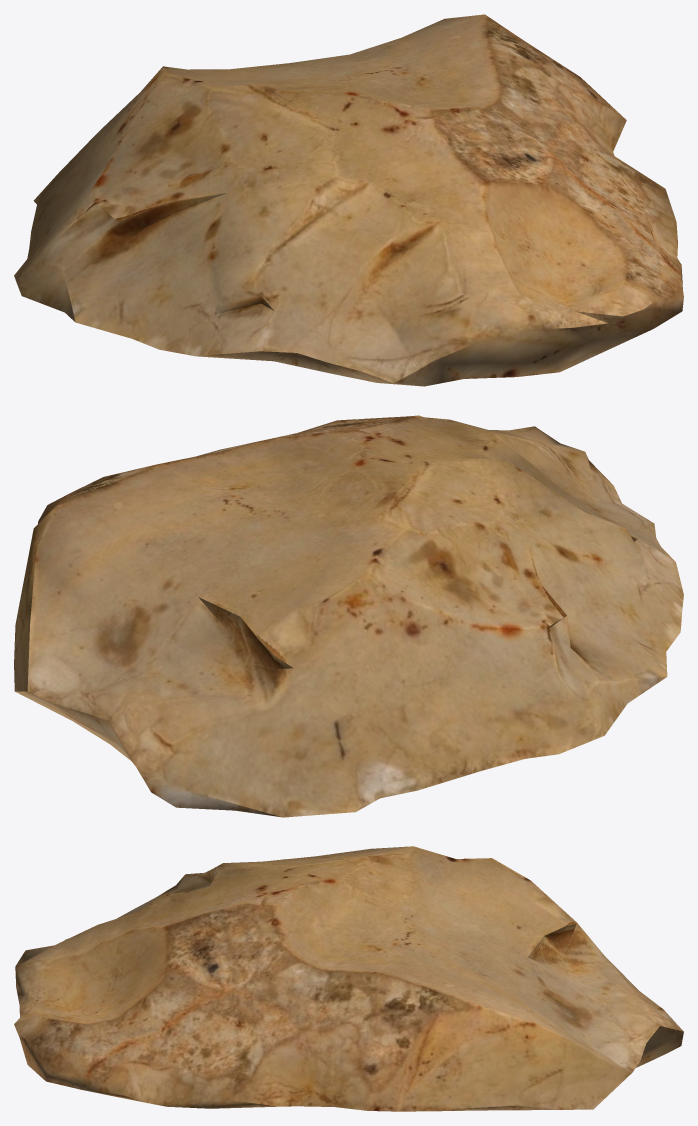
File: mousterian.glb
3 views of the same model, one above another, from view 1: azimuth 30°, elevation 25°; view 2: azimuth 150°, elevation 25°; view 3: azimuth 270°, elevation 25° (orthographic). The views are drawn at different scales.
Size of the model in its own units: 0.0783 by 0.0255 by 0.0874.
1 material, 1 textured.
